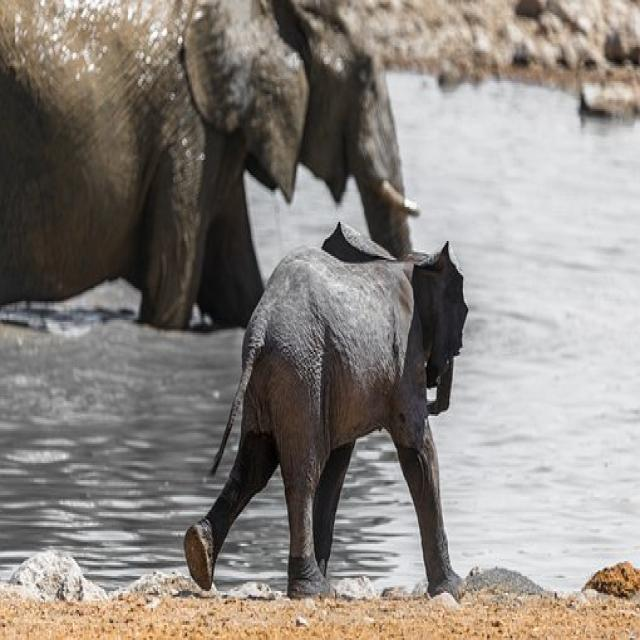Elephant: (1, 2, 432, 372), (179, 218, 510, 622)
